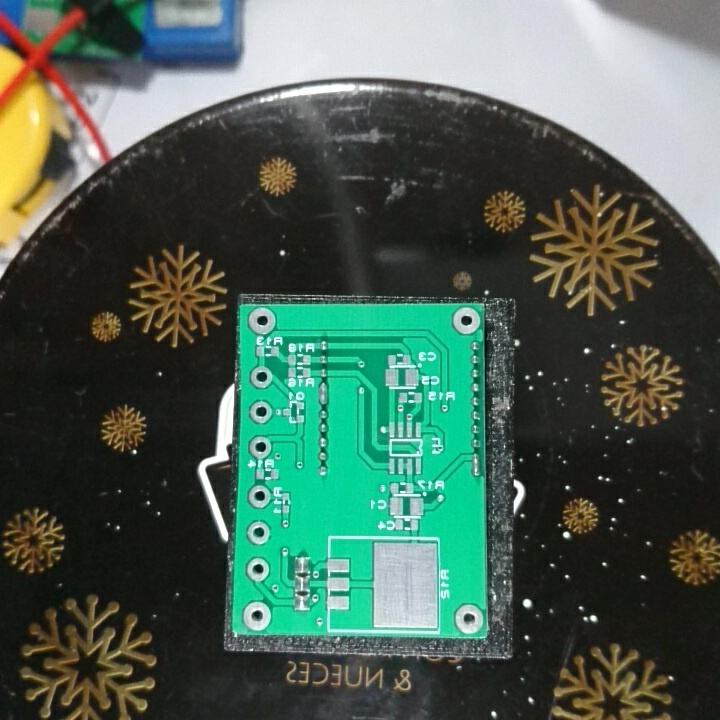F: (452, 602, 487, 636), (450, 305, 483, 338), (241, 600, 273, 632), (246, 306, 279, 336), (242, 554, 271, 583), (244, 519, 274, 546), (247, 398, 275, 426), (247, 433, 273, 461), (247, 483, 273, 510), (247, 366, 276, 389)
P: (316, 380, 331, 407), (470, 450, 483, 478)
